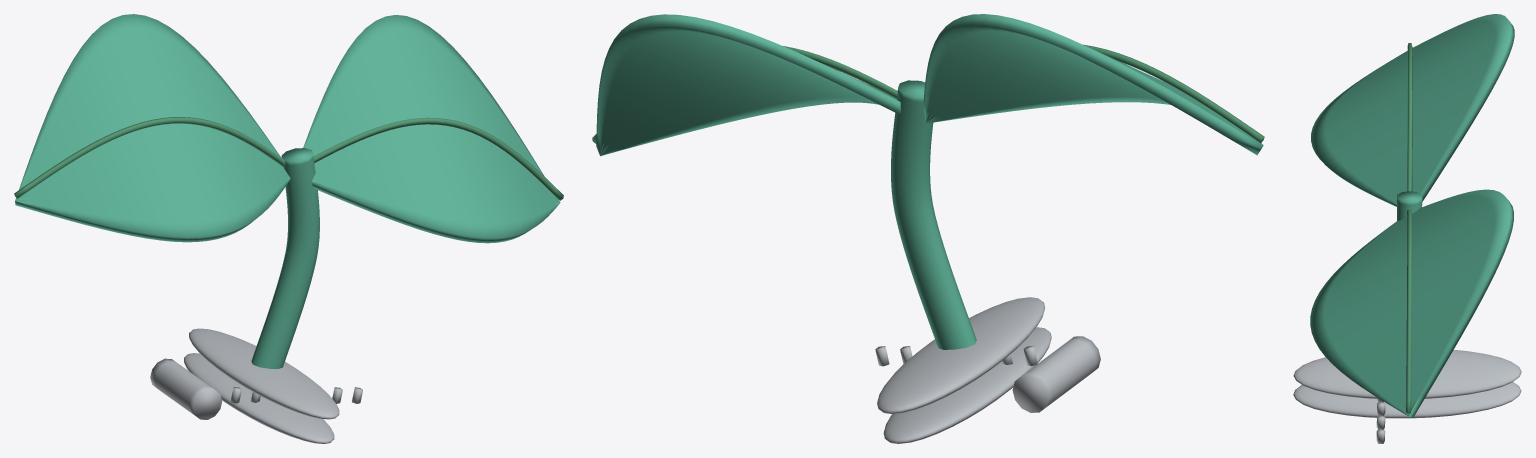
File: Masculine-sidepart-pashmina258-sprout.glb
The picture shows the model from 3 angles, left to right: view 1: azimuth 30°, elevation 25°; view 2: azimuth 150°, elevation 25°; view 3: azimuth 270°, elevation 25°; orthographic projection. The views are drawn at different scales.
Visible parts, largest first — view 1: 226 extra / Accessory / mint226, 226 extra / Sprout / clip silver235, 226 extra / Sprout / leaf vein235; view 2: 226 extra / Accessory / mint226, 226 extra / Sprout / clip silver235, 226 extra / Sprout / leaf vein235; view 3: 226 extra / Accessory / mint226, 226 extra / Sprout / clip silver235, 226 extra / Sprout / leaf vein235.
Boxes of the visible parts, left/top/right/bottom form: 226 extra / Accessory / mint226: left=15, top=14, right=560, bottom=368; 226 extra / Sprout / clip silver235: left=150, top=328, right=362, bottom=443; 226 extra / Sprout / leaf vein235: left=14, top=117, right=563, bottom=200; 226 extra / Accessory / mint226: left=596, top=14, right=1263, bottom=349; 226 extra / Sprout / clip silver235: left=875, top=297, right=1100, bottom=443; 226 extra / Sprout / leaf vein235: left=592, top=44, right=1264, bottom=143; 226 extra / Accessory / mint226: left=1310, top=14, right=1514, bottom=418; 226 extra / Sprout / clip silver235: left=1293, top=350, right=1521, bottom=443; 226 extra / Sprout / leaf vein235: left=1406, top=43, right=1412, bottom=413.
Size of the model in its own units: 0.2644 by 0.1735 by 0.104.
